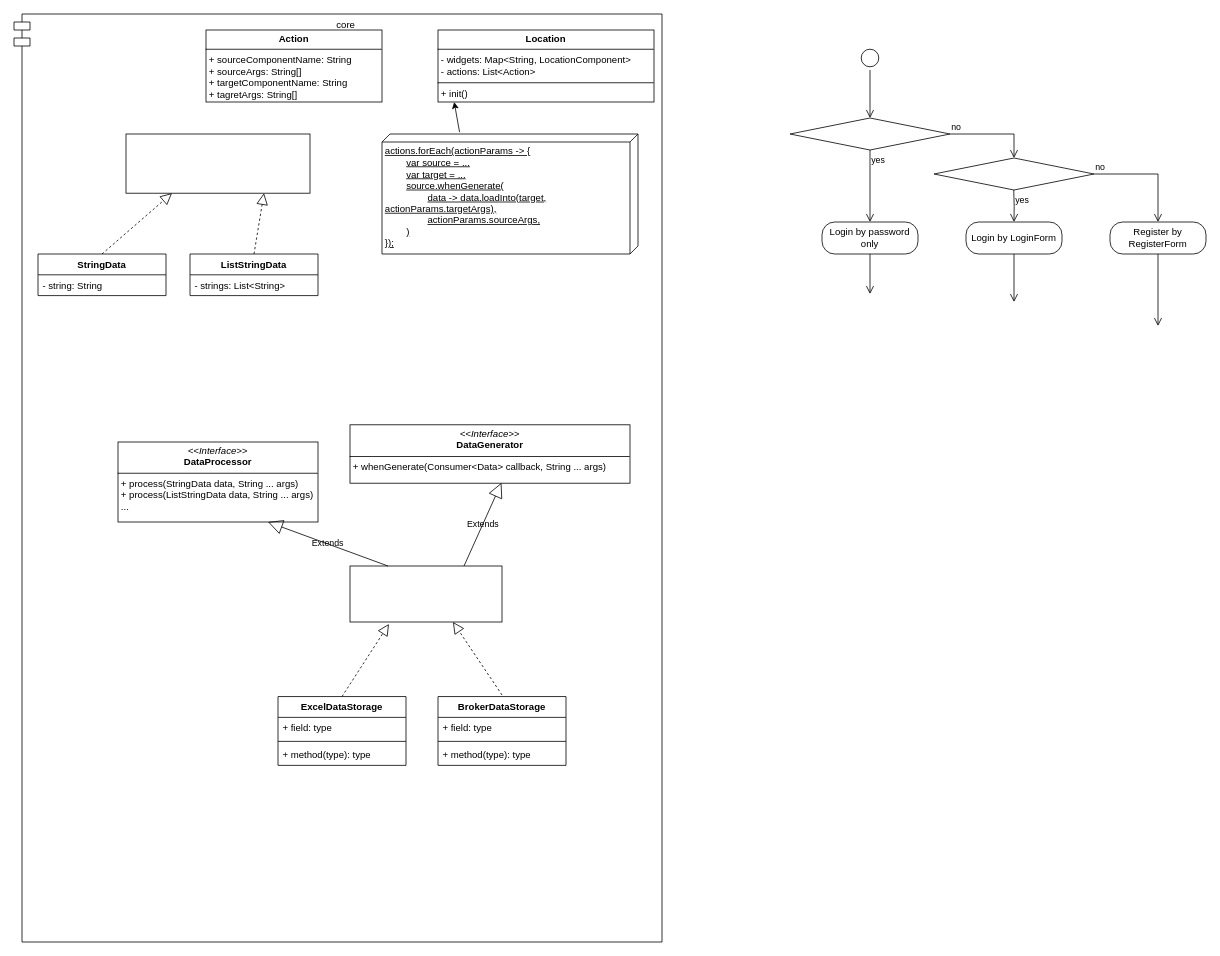
Image size: 1220x956. Some labels were removed from this diagram. The shapes that lost their labels are listed below. From the top down, each one's centre as x and y in pixels, then its label:
At point 869,133: "Did login recentry?".
At point 217,163: "<<Interface>> Data + loadInto(DataProcessor, String ... args)".
At point 1013,173: "Have account?".
At point 425,593: "<<Interface>> LocationComponent + getName(): String".
